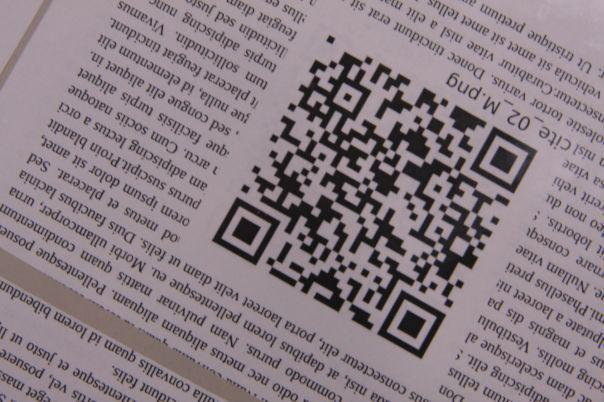Finder pattern: (213, 199, 281, 266), (377, 293, 446, 358), (471, 126, 535, 193)
